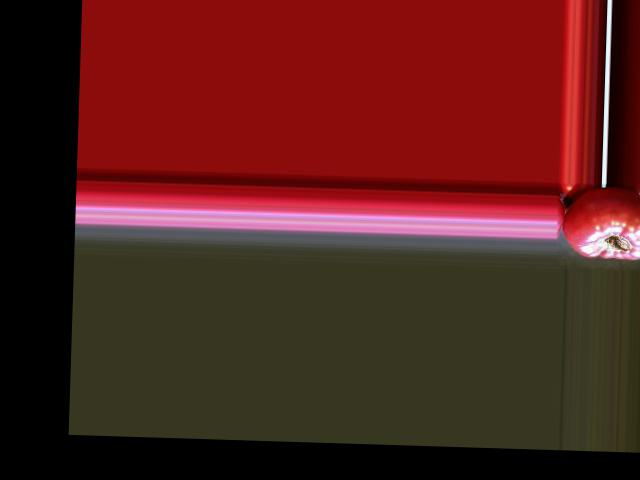tomato: (560, 185, 640, 260)
